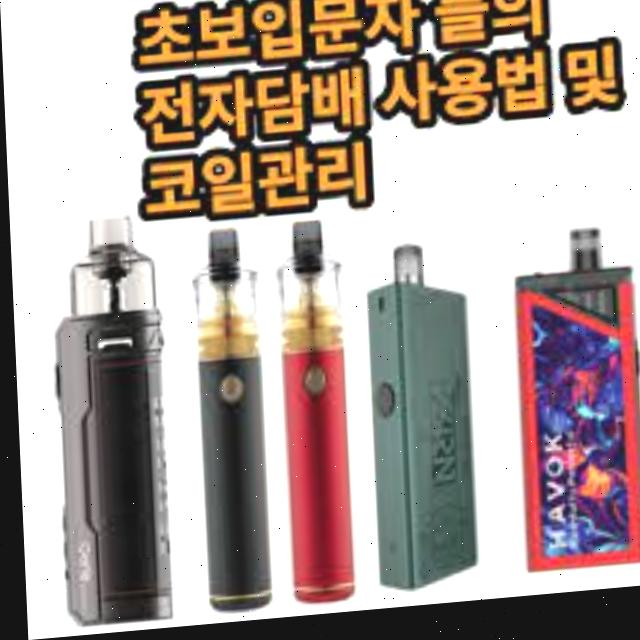vape: (47, 215, 167, 628), (509, 234, 640, 582), (364, 248, 472, 598), (188, 233, 268, 617), (273, 226, 351, 610)
